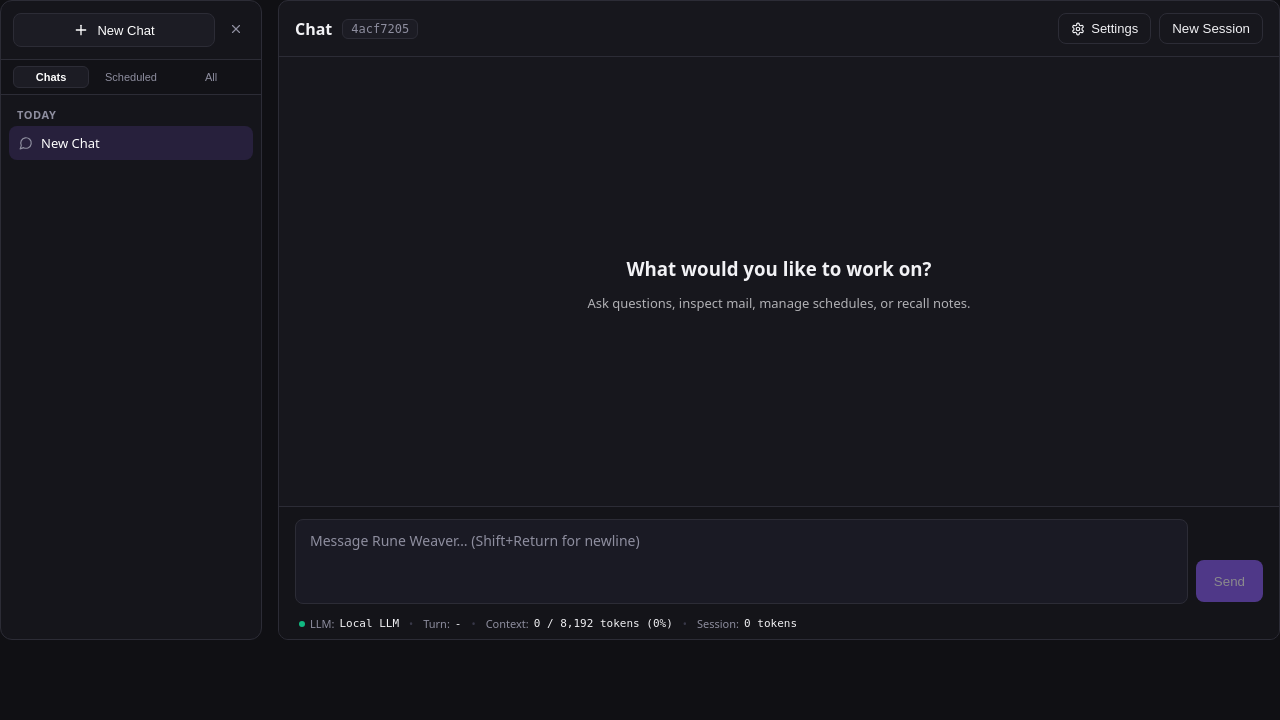
it: ChatView › prefers authoritative sessionTokens over local accumulation
Type "hello" into the text box named "Chat input". click: (741,562)
box: [295,519,1188,604]
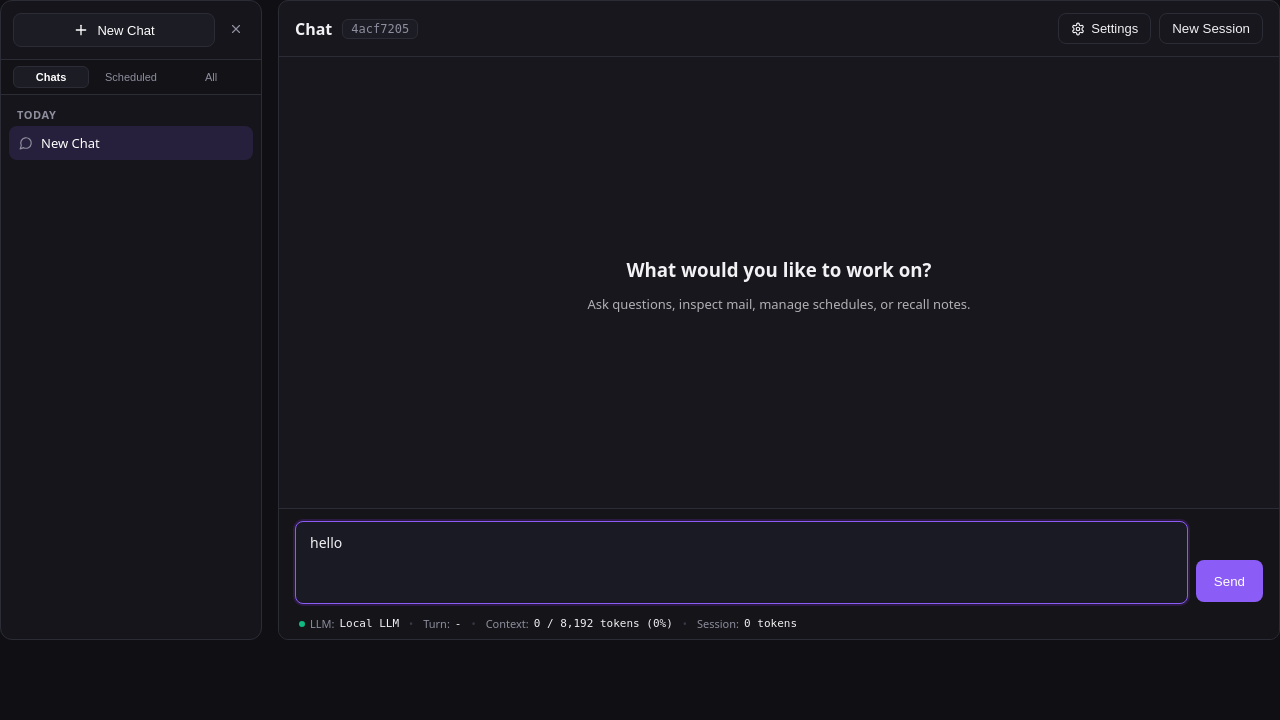
Click the button "Send". click: (1229,581)
box: [1196,560,1263,602]
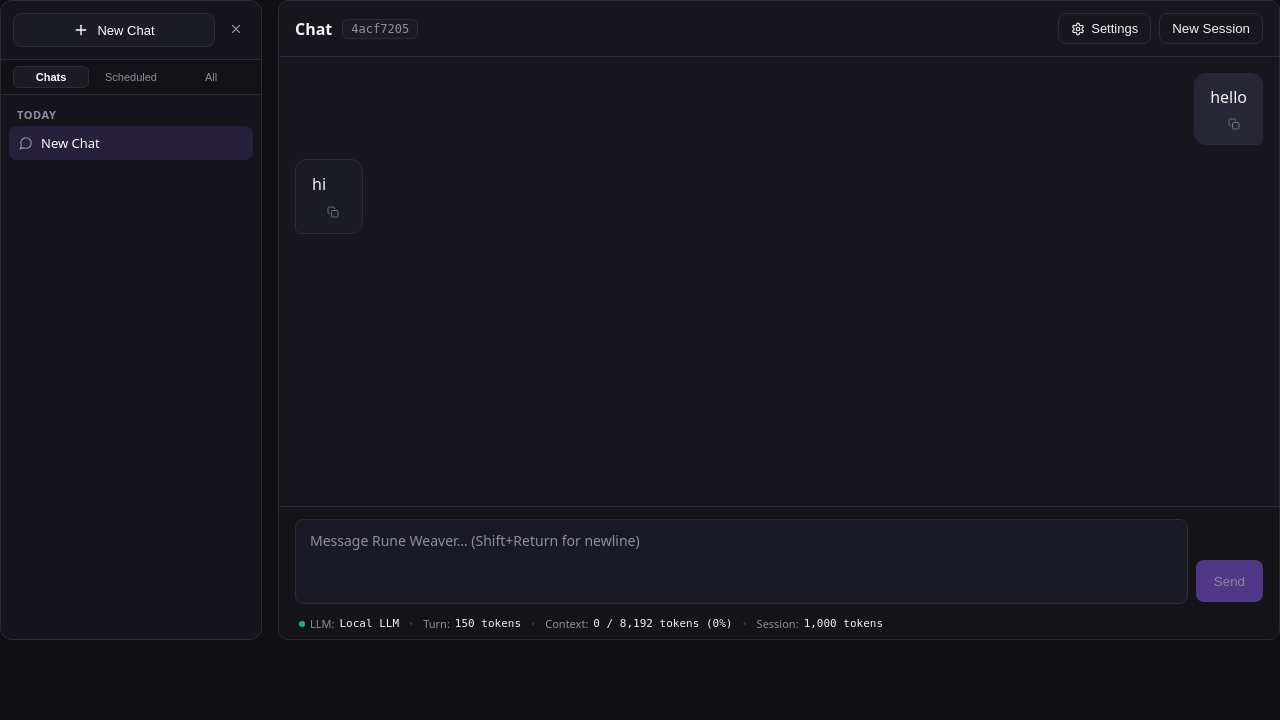
Now the text "1,000 tokens" is shown, box [804,617,883,630]
